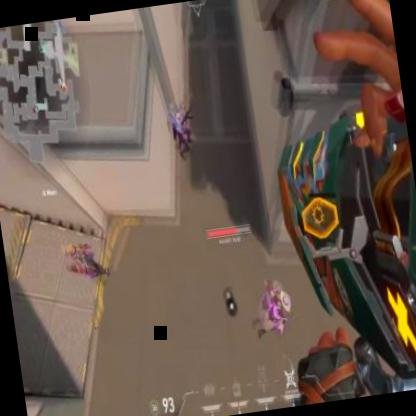enemy: (246, 278, 296, 341), (61, 235, 111, 284), (166, 102, 198, 160)
enemy_head: (278, 294, 291, 312), (66, 242, 80, 256), (176, 110, 181, 121)
